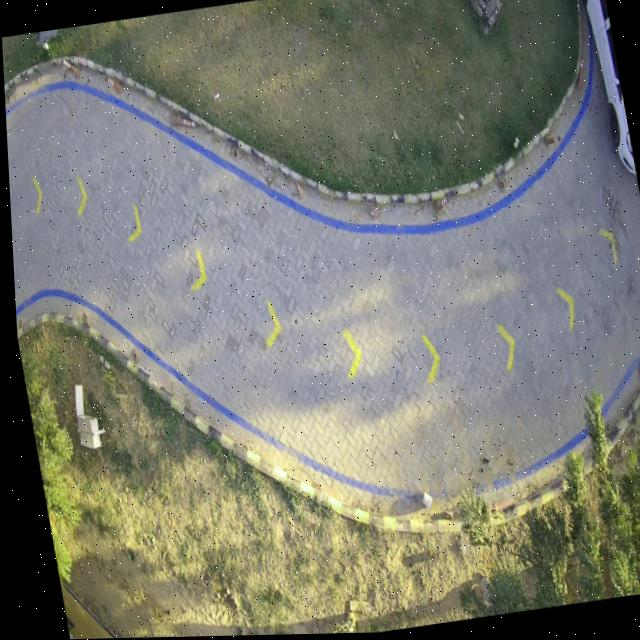car: (581, 0, 634, 176)
